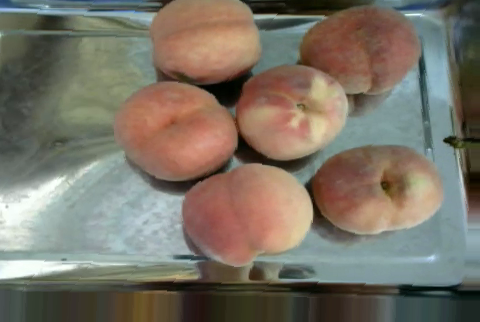Peach: (182, 162, 313, 264), (114, 80, 237, 183), (312, 144, 443, 233), (297, 3, 420, 97), (236, 62, 351, 160), (150, 0, 260, 83)
